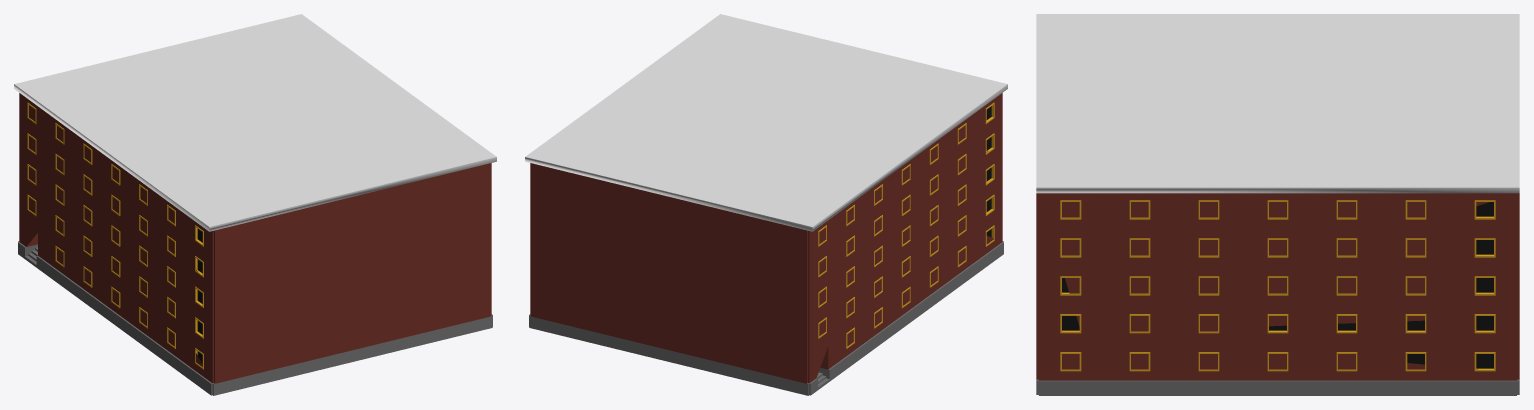
The picture shows the model from 3 angles, left to right: view 1: azimuth 30°, elevation 25°; view 2: azimuth 150°, elevation 25°; view 3: azimuth 270°, elevation 25°; orthographic projection. The views are drawn at different scales.
Parts seen in each view (by area): view 1: BR30_F05_03; view 2: BR30_F05_03; view 3: BR30_F05_03.
Boxes of the visible parts, x1=… form: BR30_F05_03: x1=14, y1=14, x2=496, y2=395; BR30_F05_03: x1=525, y1=14, x2=1007, y2=395; BR30_F05_03: x1=1036, y1=14, x2=1519, y2=395.
Size of the model in its own units: 2550 by 1440 by 3000.
